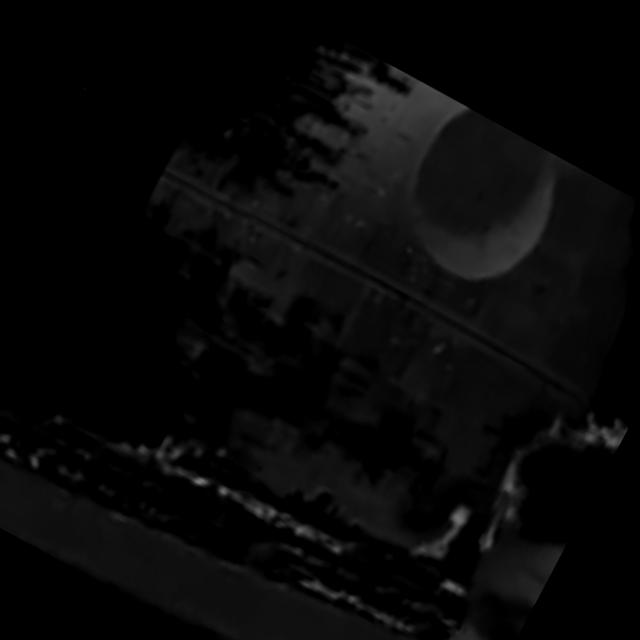death-stars: (101, 15, 636, 557)
